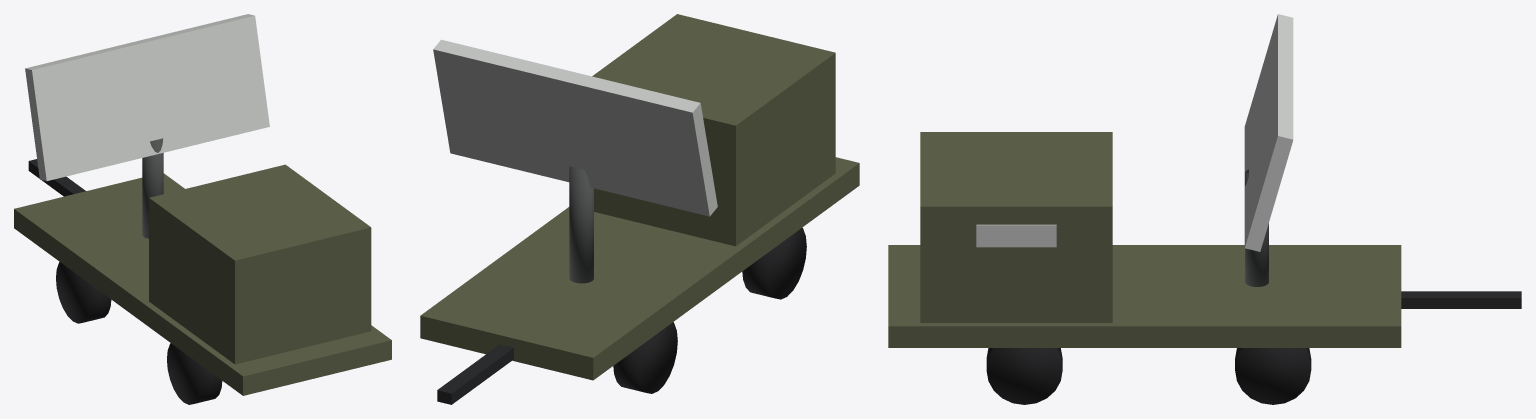
The model's file is RadarMobile.fbx.
The picture shows the model from 3 angles, left to right: view 1: azimuth 30°, elevation 25°; view 2: azimuth 150°, elevation 25°; view 3: azimuth 270°, elevation 25°; orthographic projection. The views are drawn at different scales.
Visible parts, largest first — view 1: Cabin, Array, Trailer, Wheel-10, Wheel-11, Mast, Drawbar; view 2: Trailer, Cabin, Array, Wheel-10, Wheel-11, Mast, Drawbar; view 3: Trailer, Cabin, Array, Wheel11, Wheel10, Drawbar, TeamPanel, Mast.
Part boxes in pixels (<box>): Cabin: <box>149,164,371,364</box>; Array: <box>25,14,269,181</box>; Trailer: <box>14,173,391,395</box>; Wheel-10: <box>167,343,222,404</box>; Wheel-11: <box>56,262,111,323</box>; Mast: <box>142,138,163,238</box>; Drawbar: <box>28,159,85,196</box>; Trailer: <box>420,157,859,380</box>; Cabin: <box>592,14,835,246</box>; Array: <box>433,39,717,216</box>; Wheel-10: <box>742,227,806,299</box>; Wheel-11: <box>613,322,677,393</box>; Mast: <box>569,166,593,283</box>; Drawbar: <box>437,344,513,404</box>; Trailer: <box>888,245,1401,347</box>; Cabin: <box>920,132,1112,322</box>; Array: <box>1244,14,1293,251</box>; Wheel11: <box>1235,348,1311,404</box>; Wheel10: <box>986,348,1062,404</box>; Drawbar: <box>1401,291,1521,308</box>; TeamPanel: <box>976,224,1056,247</box>; Mast: <box>1245,169,1268,286</box>.
Size of the model in its own units: 360 by 790 by 399.
